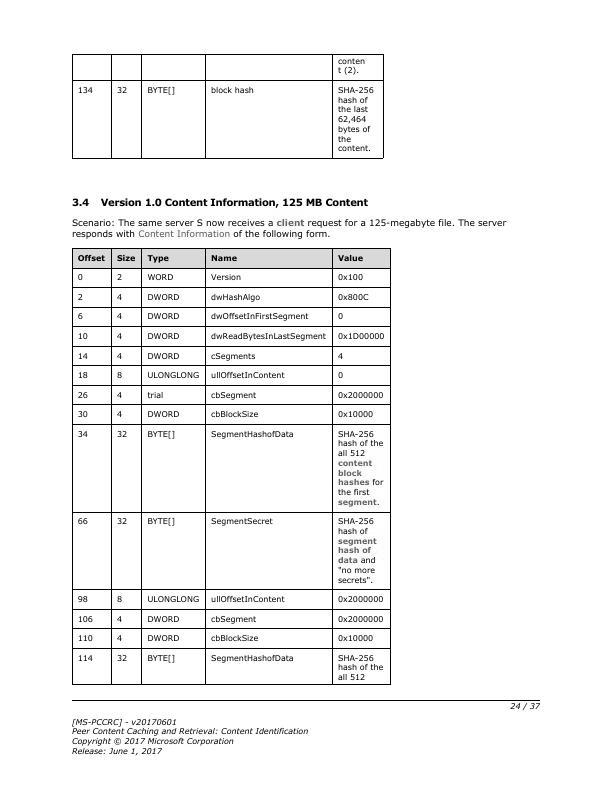table: (70, 246, 394, 687), (70, 52, 387, 162)
text: (68, 215, 508, 240), (68, 715, 311, 755), (71, 195, 370, 210)
